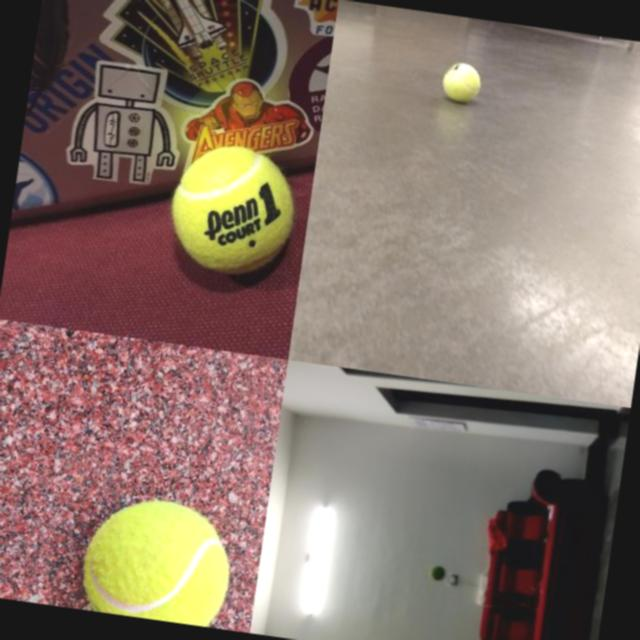tennis-ball: (76, 491, 238, 628), (162, 137, 304, 281), (440, 60, 483, 105), (429, 565, 446, 582)
